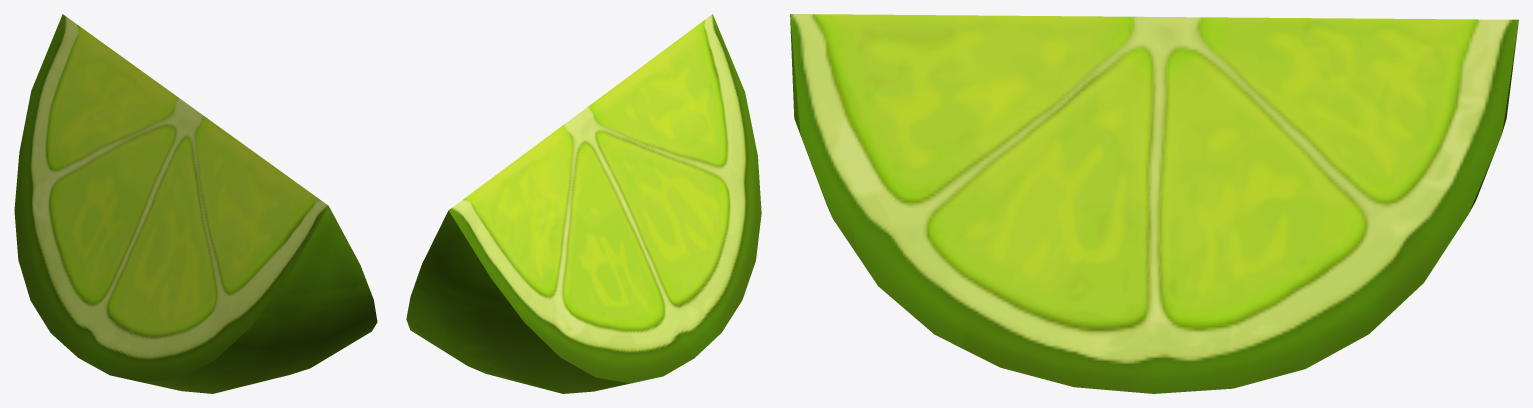
File: SM_LimeSlice.fbx
3 renders of one model, left to right at view 1: azimuth 30°, elevation 25°; view 2: azimuth 150°, elevation 25°; view 3: azimuth 270°, elevation 25°, orthographic. The views are drawn at different scales.
Parts seen in each view (by area): view 1: SM_LimeSlice; view 2: SM_LimeSlice; view 3: SM_LimeSlice.
Part boxes in pixels (<box>): SM_LimeSlice: <box>14,14,377,393</box>; SM_LimeSlice: <box>406,14,761,393</box>; SM_LimeSlice: <box>790,14,1518,393</box>.
Bounding box in the file's own units: 4.09 × 4.33 × 8.17.
